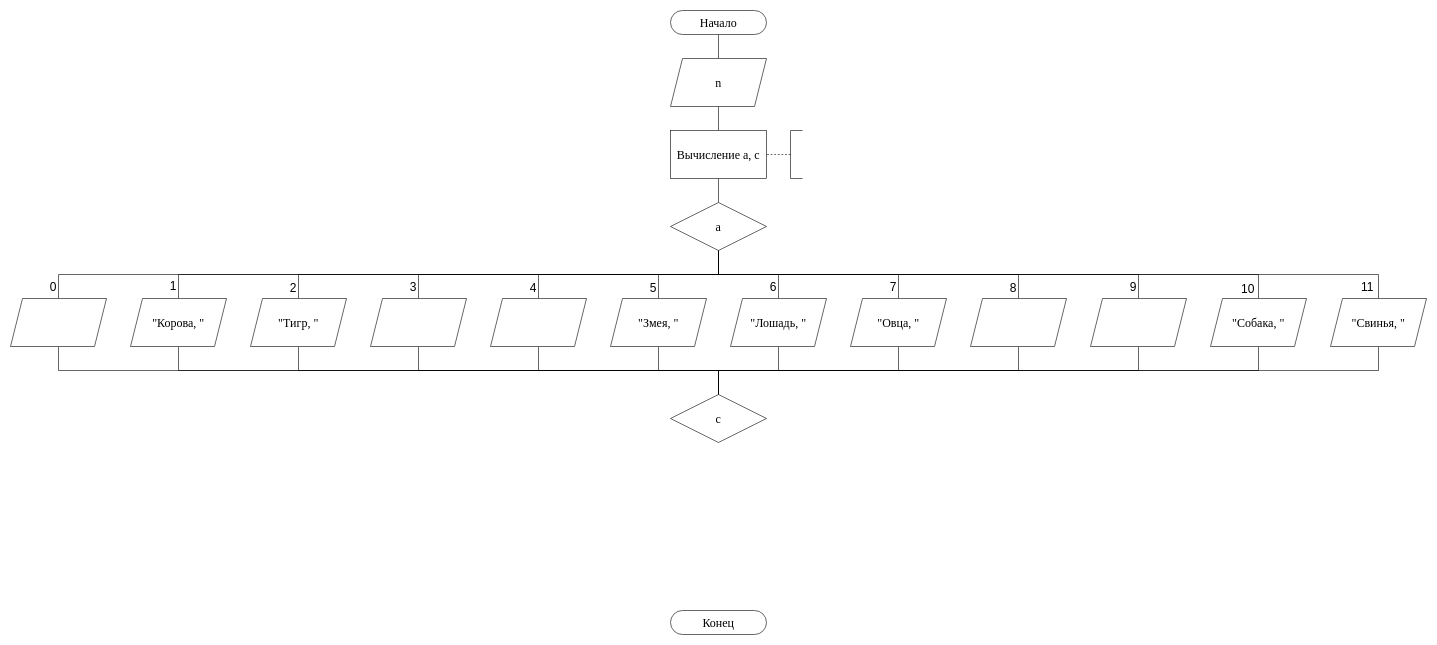
The diagram is 1437 pixels wide and 645 high, and some of its shapes have lost their labels. Here are the shapes that lost their labels. From the top down, the centre of each, then its label:
pixel 796 154: a - остаток от деления n - 1984 на 12 с - остаток от деления n - 1984 на 10
pixel 58 322: "Крыса, "
pixel 418 322: "Заяц, "
pixel 538 322: "Дракон, "
pixel 1018 322: "Обезьяна, "
pixel 1138 322: "Петух, "
